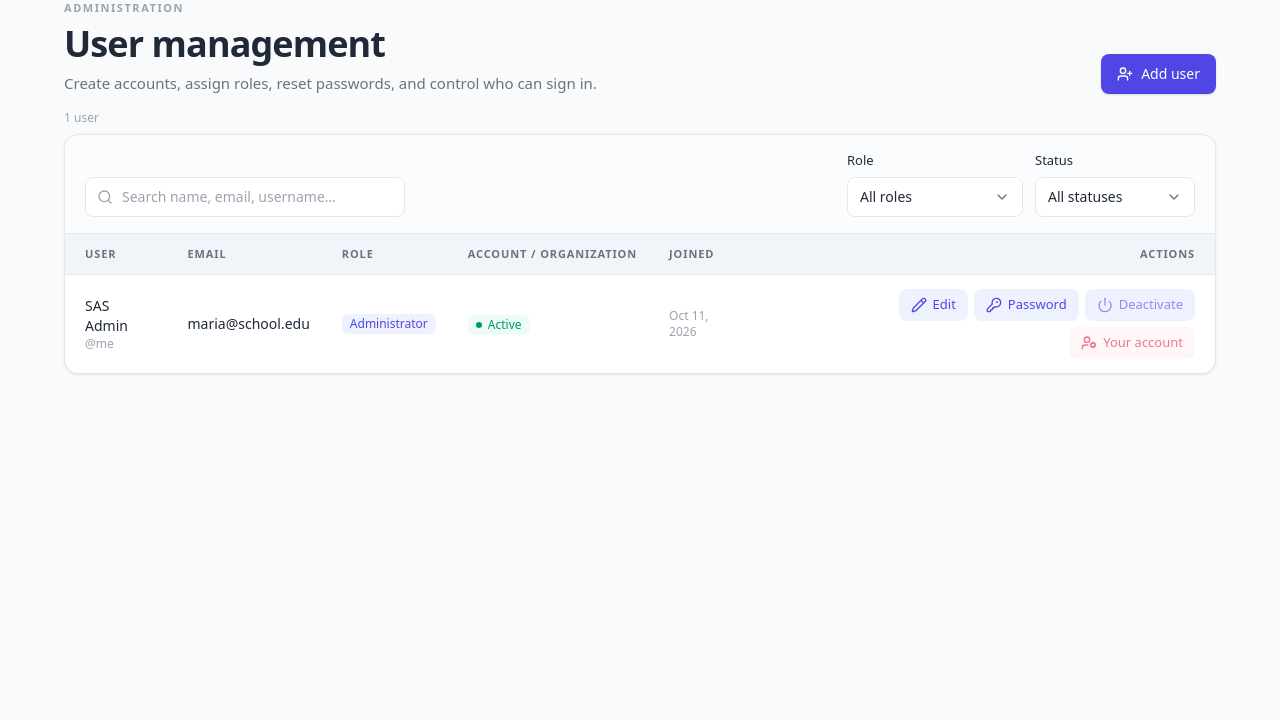
UserManagementPage › locks the role selector when editing the signed-in administrator
Check: the text "SAS Admin" is shown, box [85, 296, 128, 335]
Click the button with aria-label "Edit SAS Admin" at [933, 305], box [899, 289, 968, 321]
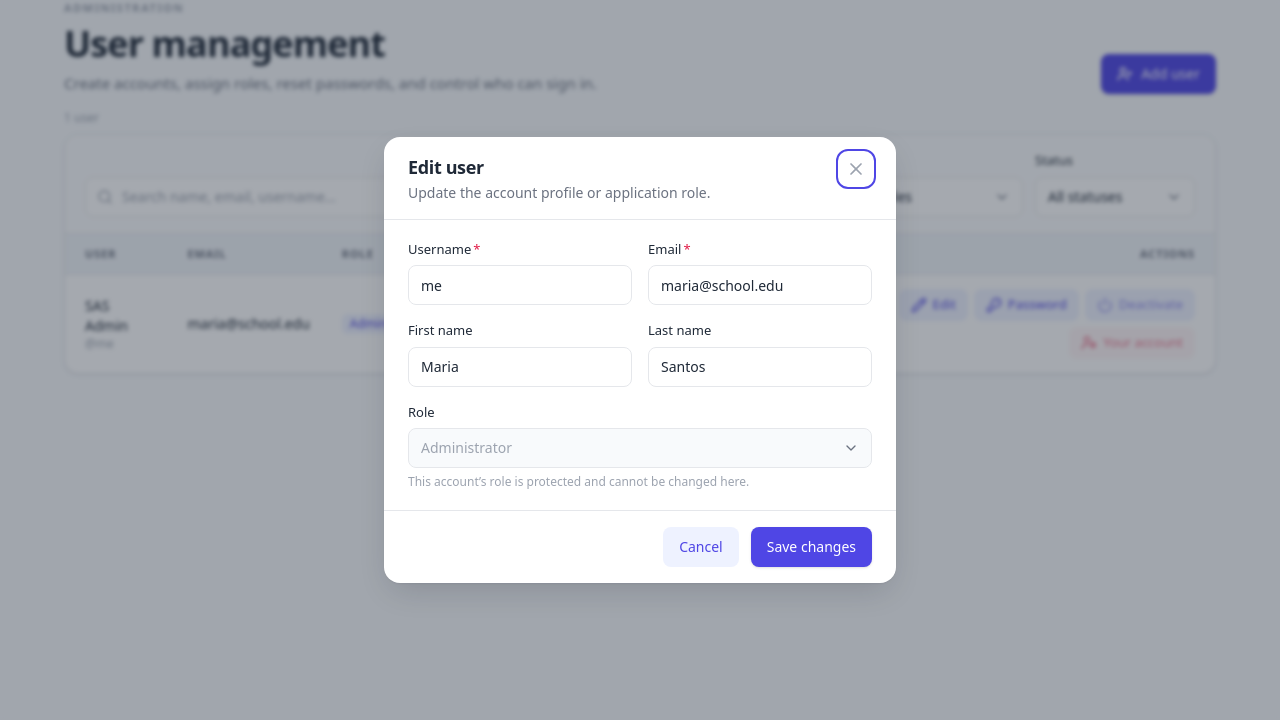
Check: the dropdown labelled "Role" is disabled, box [408, 428, 872, 468]
Check: the text "This account’s role is protected and cannot be changed here." is shown, box [408, 473, 749, 490]
